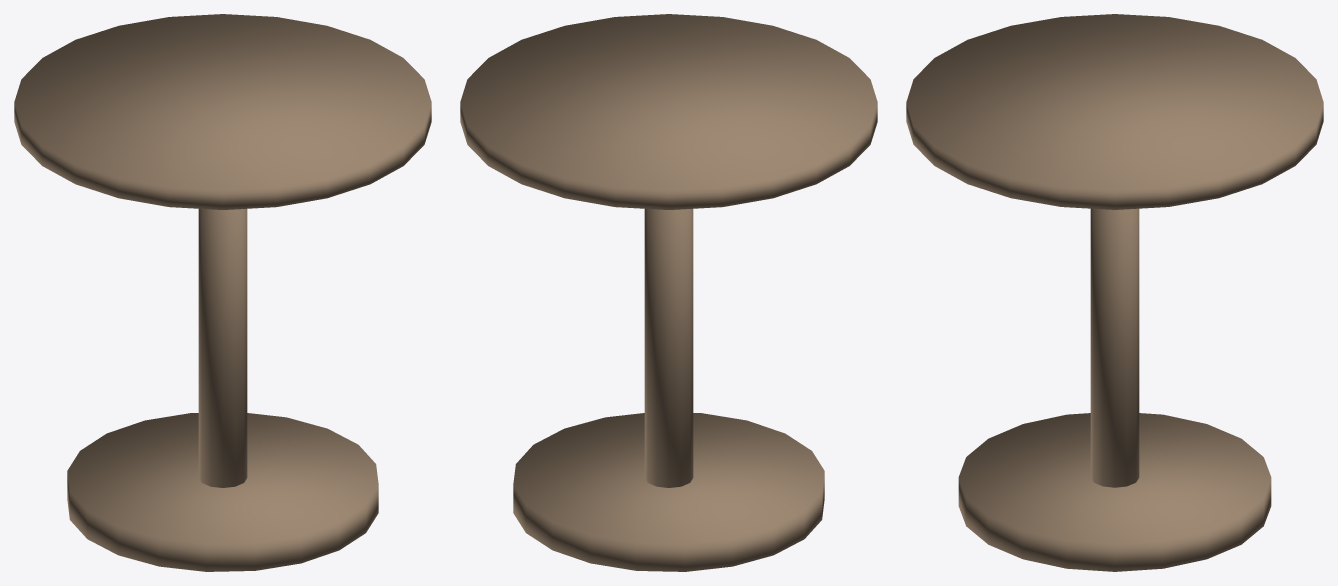
The model's file is side_table.glb.
3 renders of one model, left to right at view 1: azimuth 30°, elevation 25°; view 2: azimuth 150°, elevation 25°; view 3: azimuth 270°, elevation 25°, orthographic.
Parts seen in each view (by area): view 1: Side table round top, Side table foot, Side table pedestal; view 2: Side table round top, Side table foot, Side table pedestal; view 3: Side table round top, Side table foot, Side table pedestal.
Boxes of the visible parts, x1,y1,x2,y2 form: Side table round top: (14, 14, 431, 209); Side table foot: (67, 413, 378, 571); Side table pedestal: (198, 208, 247, 487); Side table round top: (460, 14, 877, 209); Side table foot: (513, 413, 824, 571); Side table pedestal: (644, 208, 693, 487); Side table round top: (906, 14, 1323, 209); Side table foot: (958, 413, 1271, 571); Side table pedestal: (1090, 208, 1139, 487).
Bounding box in the file's own units: 0.48 × 0.5125 × 0.48.
